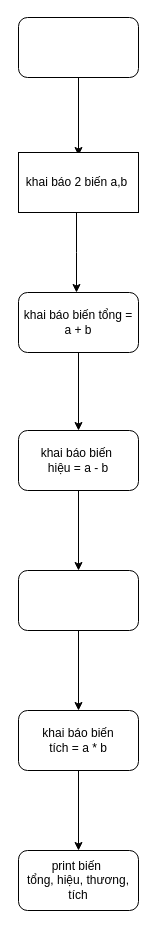
Some shapes in this 156 by 928 pixel diagram are drawn without their labels. The shapes that lost their labels are listed below. From the top down, each one's box as (x1, y1, x2, y2) in pixels, then its label:
(18, 16, 138, 78): start
(18, 570, 138, 630): Khai báo biến thương a/b
